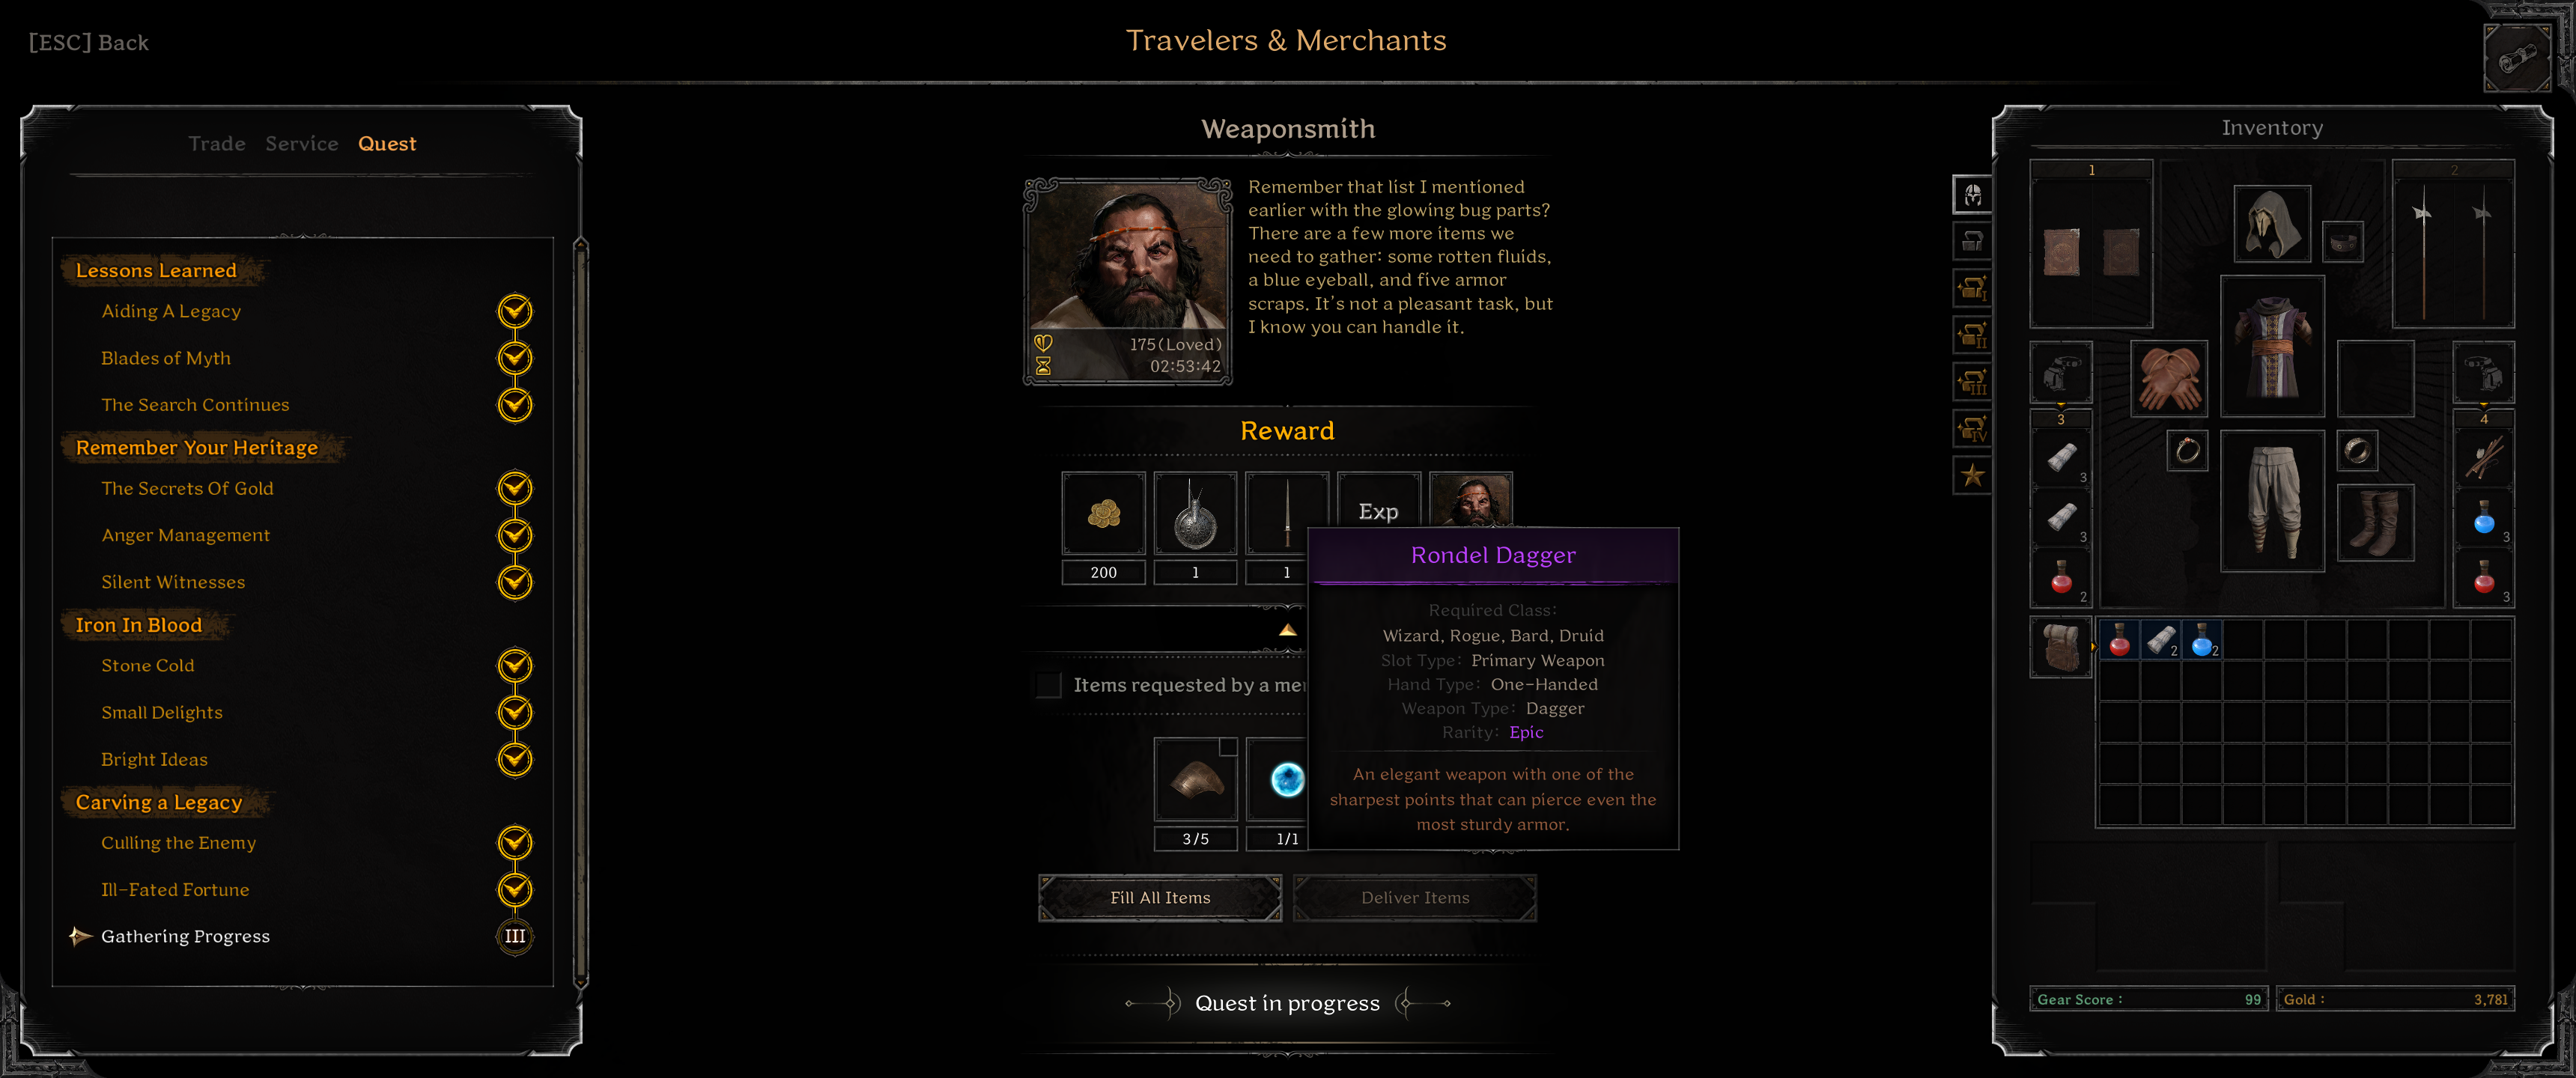Tooltip: (1304, 524, 1681, 853)
